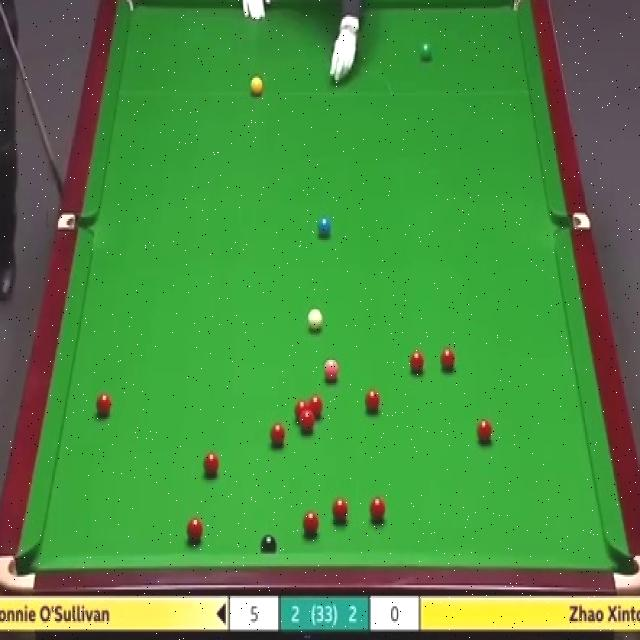black-ball: (260, 536, 277, 552)
blue-ball: (316, 216, 331, 238)
green-ball: (421, 40, 432, 60)
pink-ball: (322, 358, 341, 381)
red-ball: (268, 421, 287, 449), (475, 418, 494, 446), (202, 451, 221, 477), (331, 498, 349, 525), (299, 409, 316, 437), (186, 516, 204, 542), (301, 510, 319, 536), (306, 394, 324, 418), (439, 346, 455, 373), (95, 394, 112, 417), (369, 498, 386, 520), (295, 400, 310, 424), (366, 388, 380, 413), (410, 351, 425, 373)
white-ball: (307, 306, 322, 330)
yellow-ball: (247, 76, 264, 97)
